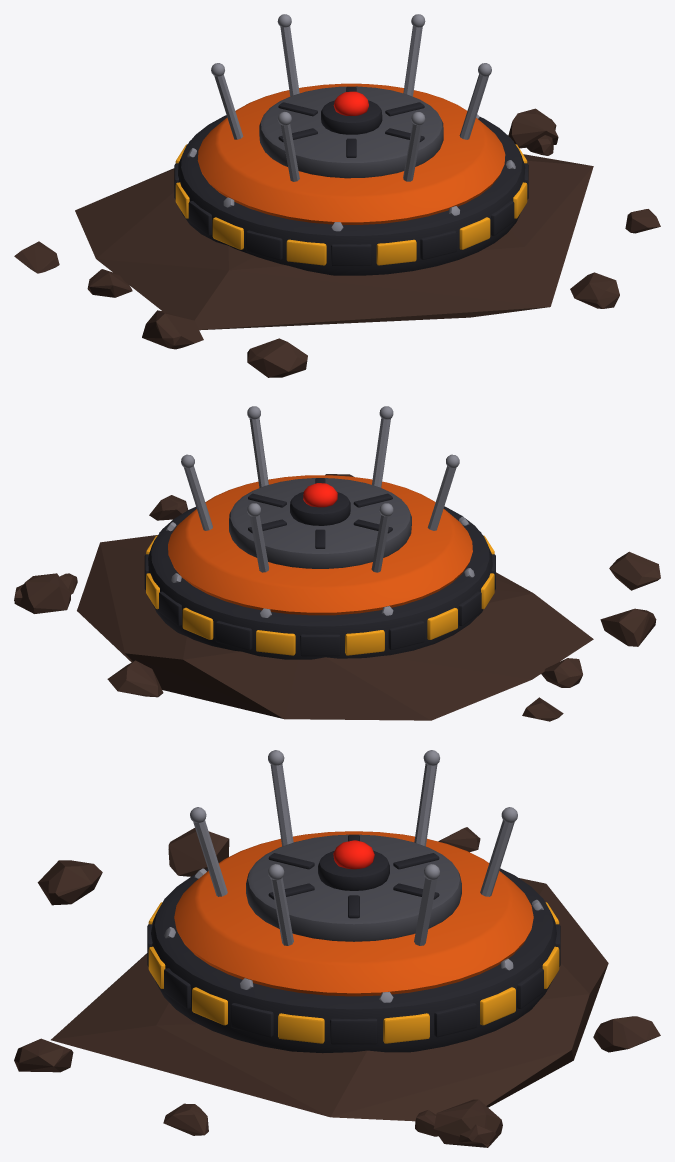
The model's file is LandMine.obj.
The picture shows the model from 3 angles, top to bottom: view 1: azimuth 30°, elevation 25°; view 2: azimuth 150°, elevation 25°; view 3: azimuth 270°, elevation 25°; orthographic projection. The views are drawn at different scales.
Visible parts, largest first — view 1: LandMine; view 2: LandMine; view 3: LandMine.
Boxes of the visible parts, x1,y1,x2,y2 form: LandMine: (14,14,660,377); LandMine: (14,406,660,721); LandMine: (14,750,660,1147).
Bounding box in the file's own units: 1.22 × 0.3948 × 1.08.
